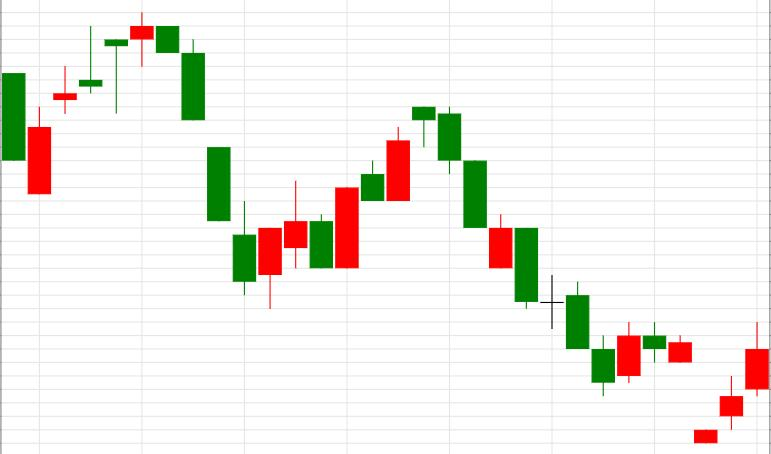three_black_crows_fall: (28, 12, 230, 221)
